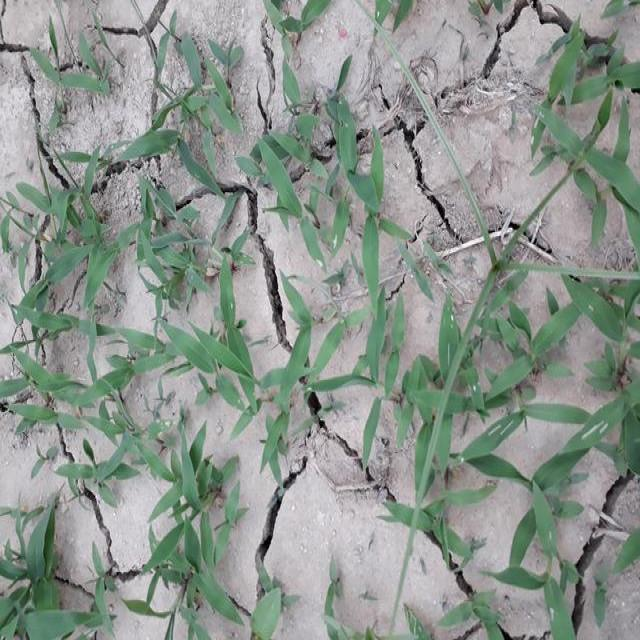weed: (400, 262, 640, 640), (2, 158, 196, 507), (246, 54, 389, 286), (141, 415, 240, 637), (111, 282, 268, 411), (536, 20, 640, 212), (3, 487, 126, 640)
